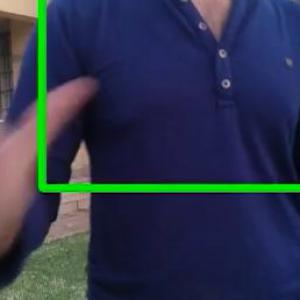land_hand: (0, 56, 103, 268)
